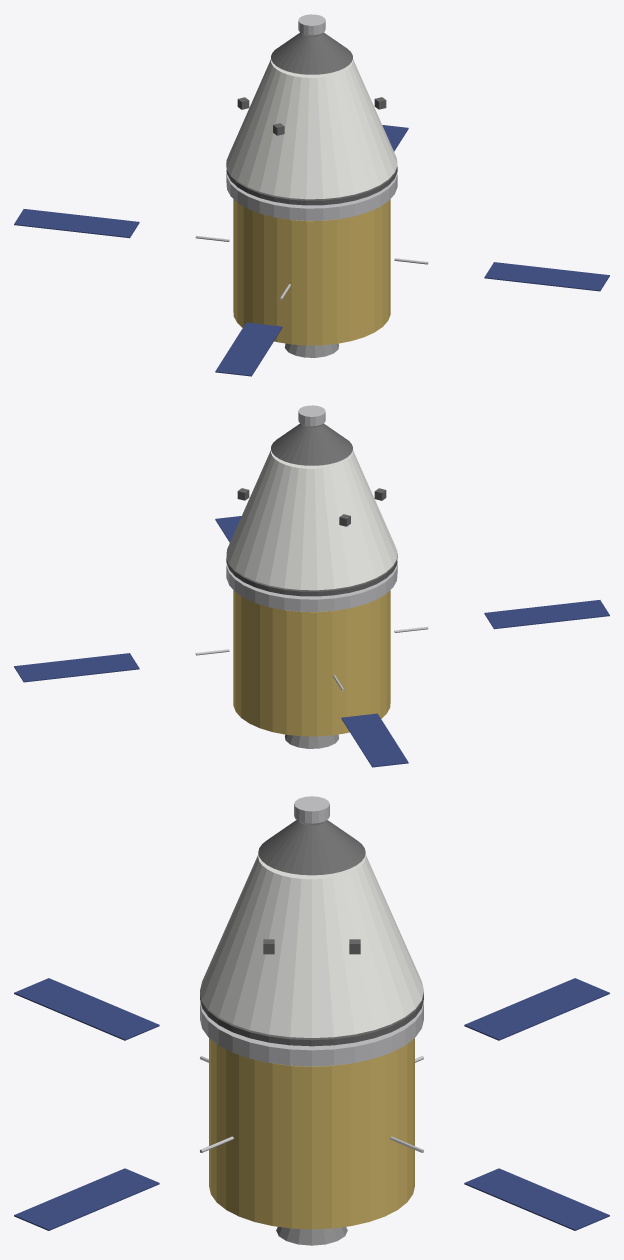
Rendered from orion.glb.
3 renders of one model, top to bottom at view 1: azimuth 30°, elevation 25°; view 2: azimuth 150°, elevation 25°; view 3: azimuth 270°, elevation 25°, orthographic. The views are drawn at different scales.
Visible parts, largest first — view 1: Cone; view 2: Cone; view 3: Cone.
Boxes of the visible parts, x1,y1,x2,y2 form: Cone: (14, 14, 609, 376); Cone: (14, 405, 609, 767); Cone: (14, 796, 609, 1245).
Size of the model in its own units: 13.29 by 10.5 by 13.29.
